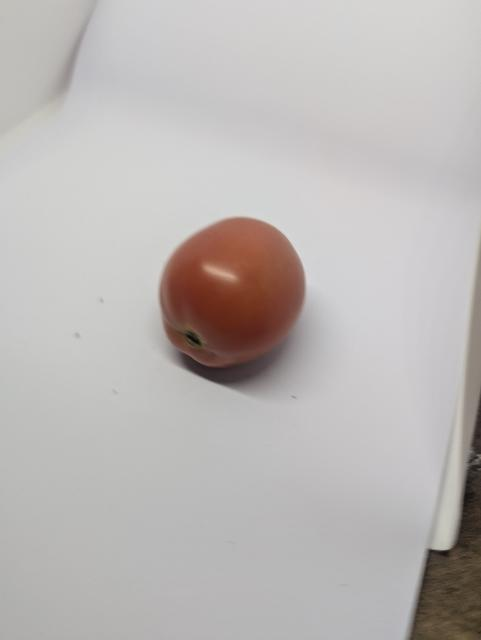red: (157, 215, 309, 373)
